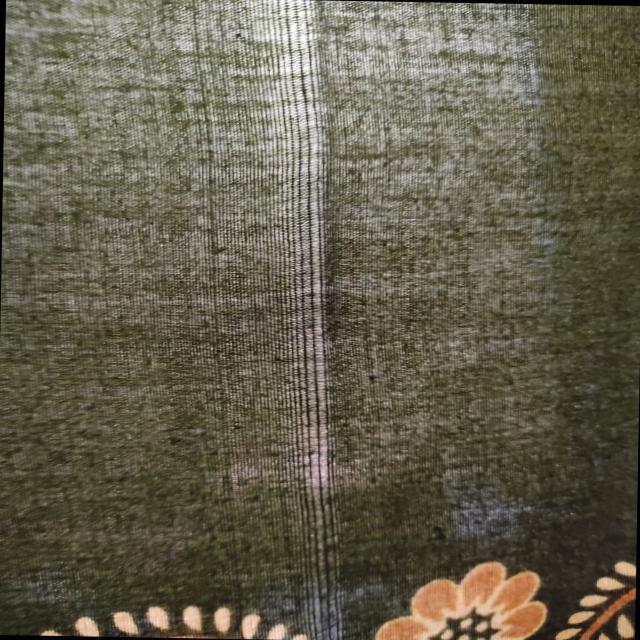baekra: (274, 6, 390, 640)
